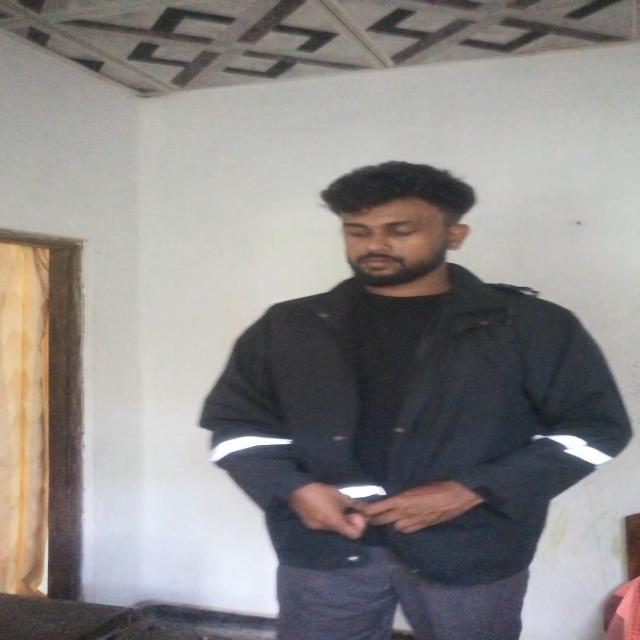Jacket_Wearer: (218, 270, 614, 574)
